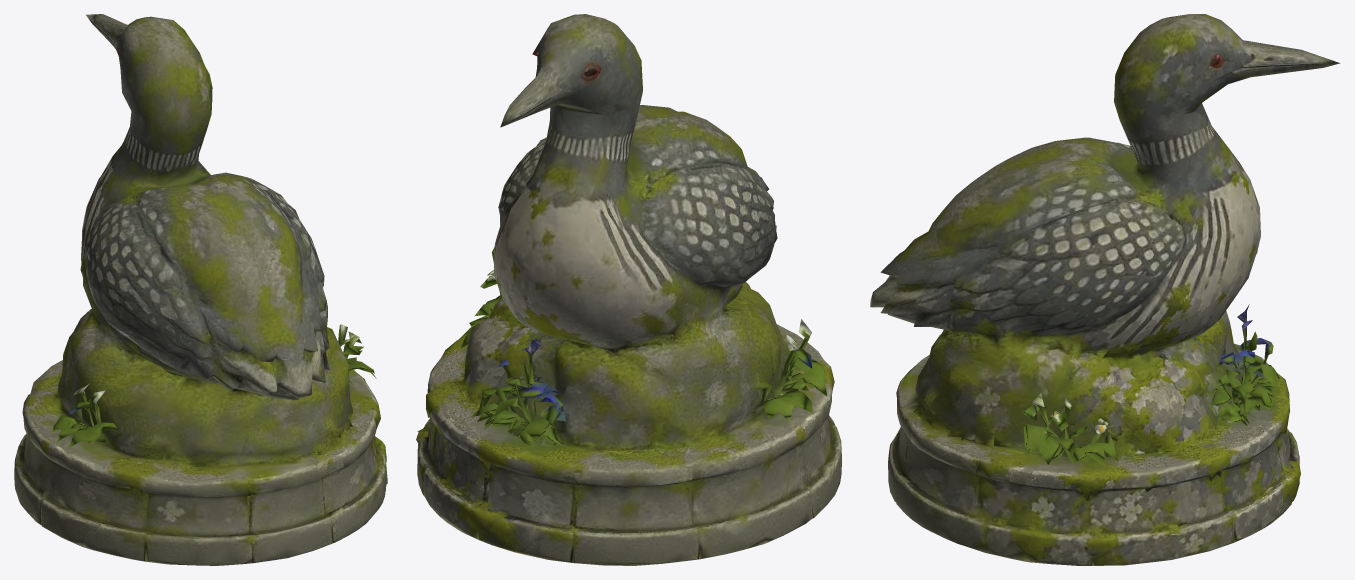
The model's file is statue.glb.
3 views of the same model, side by side, from view 1: azimuth 30°, elevation 25°; view 2: azimuth 150°, elevation 25°; view 3: azimuth 270°, elevation 25° (orthographic). The views are drawn at different scales.
Visible parts, largest first — view 1: tripo_node_da7f5458-bc33-4c53-a070-ec0f43c24866; view 2: tripo_node_da7f5458-bc33-4c53-a070-ec0f43c24866; view 3: tripo_node_da7f5458-bc33-4c53-a070-ec0f43c24866.
Boxes of the visible parts, x1,y1,x2,y2 form: tripo_node_da7f5458-bc33-4c53-a070-ec0f43c24866: (14,14,387,565); tripo_node_da7f5458-bc33-4c53-a070-ec0f43c24866: (416,14,841,565); tripo_node_da7f5458-bc33-4c53-a070-ec0f43c24866: (870,14,1339,565).
Size of the model in its own units: 0.7809 by 1 by 0.9109.
1 material, 1 textured.
